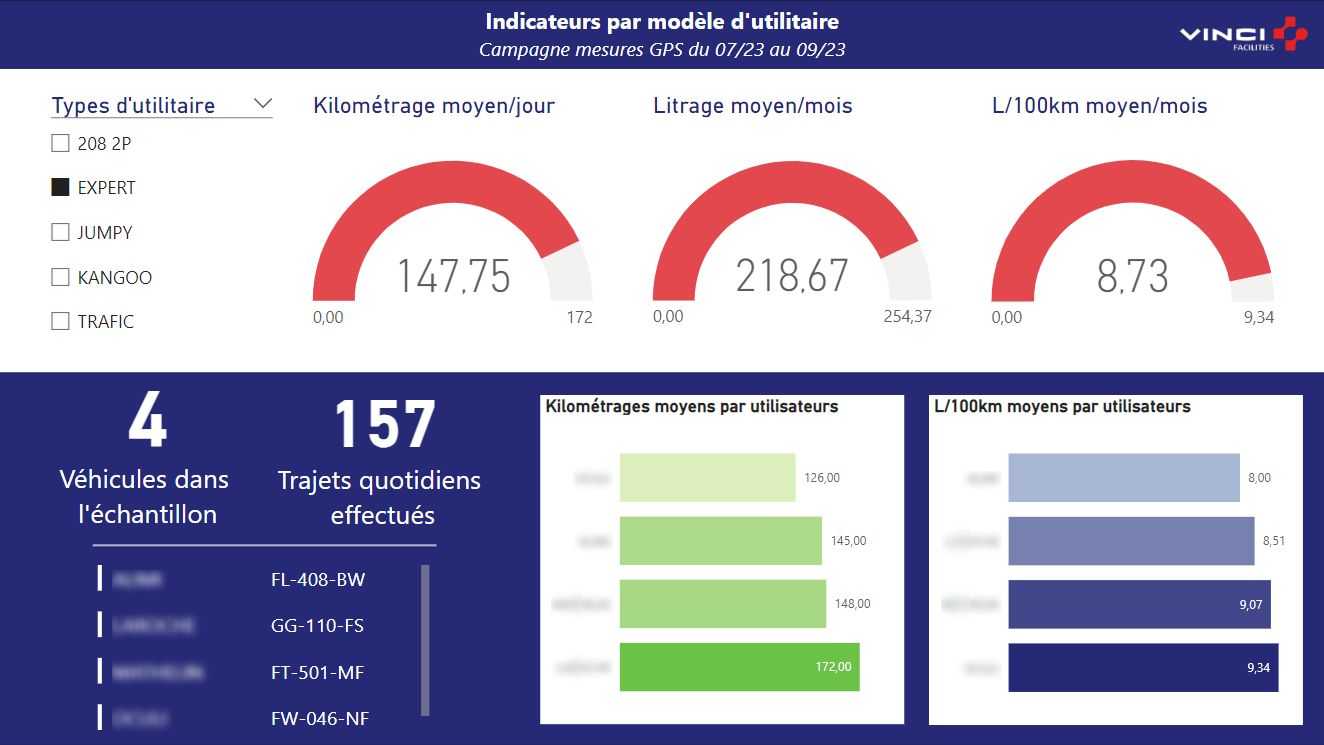

The dashboard page shown, as its layout file describes it:
{"tool":"powerbi","page":{"name":"Indicateurs par véhicules","canvas":[1280,720],"ordinal":5},"visuals":[{"type":"gauge","title":"Litrage moyen/mois","fields":{"Y":["Avg(BDD.Moyenne Litrage)"],"MaxValue":["BDD.Max mean litr"]},"box":[626,89.6,279.3,274.9],"z":0},{"type":"gauge","title":"Kilométrage moyen/jour","fields":{"Y":["Avg(BDD.mean km)"],"MaxValue":["BDD.Max mean km"]},"box":[297.9,89.6,280.2,274.9],"z":1000},{"type":"shape","box":[0,0,1279.6,66.3],"z":2000},{"type":"textbox","box":[0,0,1279.6,66.3],"z":3000},{"type":"slicer","fields":{"Values":["BDD.type"]},"box":[37.3,84.5,239.1,272.7],"z":4000},{"type":"image","box":[1122.8,0,156.8,66.3],"z":5000},{"type":"gauge","title":"L/100km moyen/mois","fields":{"Y":["Avg(BDD.Moyenne L/100km)"],"MaxValue":["BDD.Max mean L/100km"]},"box":[952.3,89.6,282.9,274.9],"z":6000},{"type":"shape","box":[0,360,1280,360],"z":7000},{"type":"card","fields":{"Values":["CountNonNull(BDD.type)"]},"box":[0,255.4,287.3,309.5],"z":8000},{"type":"shape","box":[90.4,376,331.6,299.7],"z":9000},{"type":"barChart","title":"Kilométrages moyens par utilisateurs","fields":{"Y":["Avg(BDD.mean km)"],"Category":["BDD.nom"]},"box":[522.3,381.3,351.1,317.4],"z":10000},{"type":"barChart","title":"L/100km moyens par type d''utilitaire","fields":{"Y":["Avg(BDD.Moyenne L/100km)"],"Category":["BDD.nom"]},"box":[897.3,380.9,360.9,318.2],"z":11000},{"type":"multiRowCard","fields":{"Values":["BDD.nom","BDD.Immat"]},"box":[90.6,540,329.9,172],"z":12000},{"type":"card","fields":{"Values":["BDD.total trajets"]},"box":[254.5,285.5,232.3,262.5],"z":13000}]}

Visuals, with their boxes in screenshot pixels (x1, y1, x2, y2), scaled from the page's 1280x720 canvas onto the 1324x745 screenshot:
"Litrage moyen/mois" gauge: [left=648, top=93, right=936, bottom=377]
"Kilométrage moyen/jour" gauge: [left=308, top=93, right=598, bottom=377]
shape: [left=0, top=0, right=1323, bottom=69]
textbox: [left=0, top=0, right=1323, bottom=69]
slicer - BDD.type: [left=39, top=87, right=286, bottom=370]
image: [left=1161, top=0, right=1323, bottom=69]
"L/100km moyen/mois" gauge: [left=985, top=93, right=1278, bottom=377]
shape: [left=0, top=373, right=1323, bottom=744]
card - CountNonNull(BDD.type): [left=0, top=264, right=297, bottom=585]
shape: [left=94, top=389, right=437, bottom=699]
"Kilométrages moyens par utilisateurs" barChart: [left=540, top=395, right=903, bottom=723]
"L/100km moyens par type d''utilitaire" barChart: [left=928, top=394, right=1301, bottom=723]
multiRowCard - BDD.nom x BDD.Immat: [left=94, top=559, right=435, bottom=737]
card - BDD.total trajets: [left=263, top=295, right=504, bottom=567]
